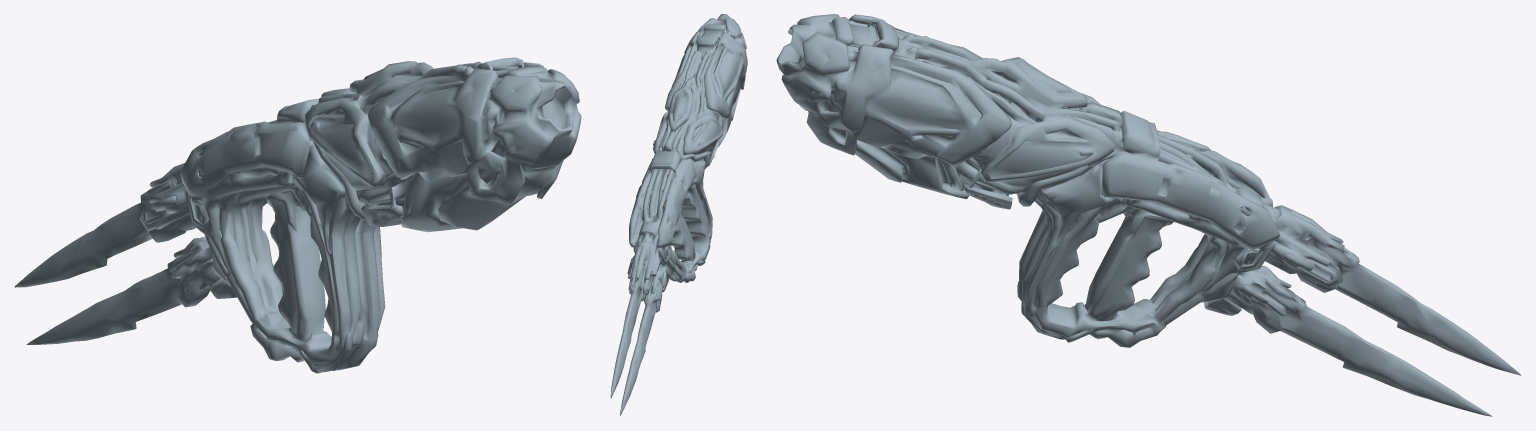
Rendered from sword-v001.glb.
3 views of the same model, side by side, from view 1: azimuth 30°, elevation 25°; view 2: azimuth 150°, elevation 25°; view 3: azimuth 270°, elevation 25° (orthographic). The views are drawn at different scales.
Visible parts, largest first — view 1: IV_Sword.001; view 2: IV_Sword.001; view 3: IV_Sword.001.
Part boxes in pixels (<box>): IV_Sword.001: <box>15,57,581,373</box>; IV_Sword.001: <box>610,14,747,416</box>; IV_Sword.001: <box>776,14,1521,416</box>.
Bounding box in the file's own units: 0.2068 × 0.4888 × 0.7074.
